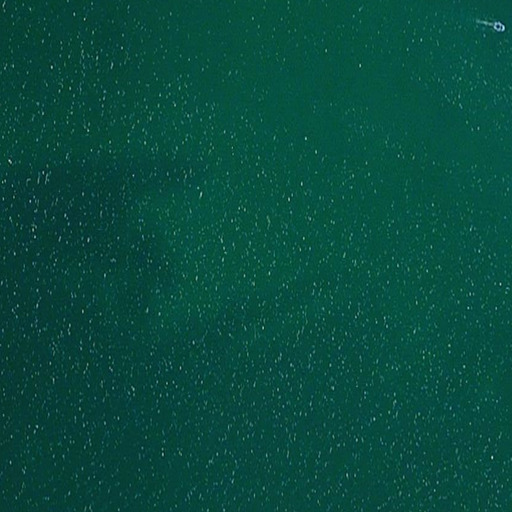ship: (491, 19, 507, 36)
